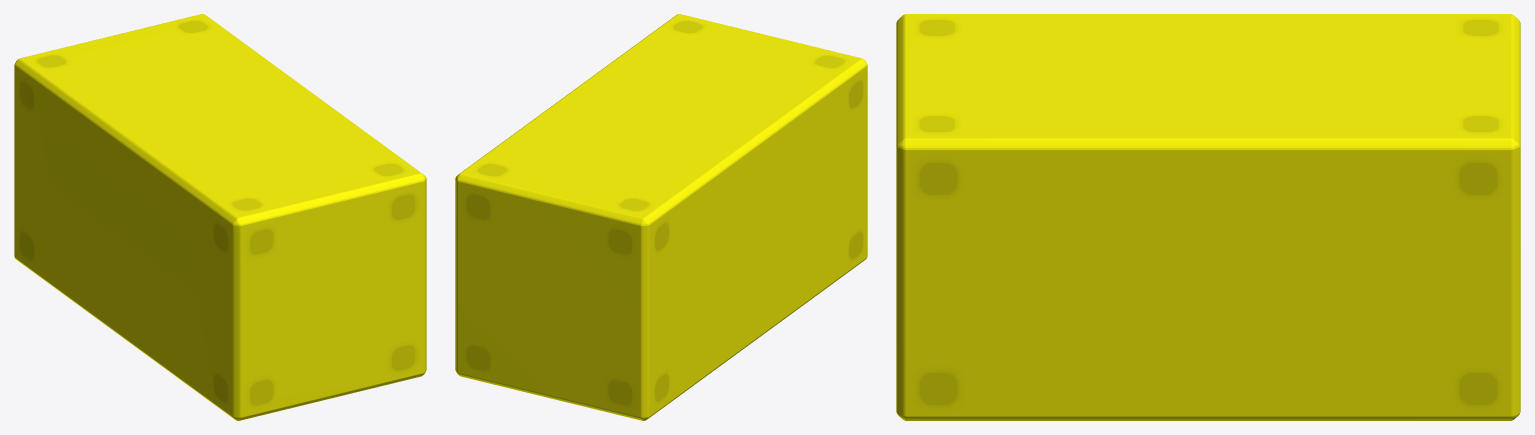
Rendered from WorkBlockRect.fbx.
The picture shows the model from 3 angles, left to right: view 1: azimuth 30°, elevation 25°; view 2: azimuth 150°, elevation 25°; view 3: azimuth 270°, elevation 25°; orthographic projection. The views are drawn at different scales.
Visible parts, largest first — view 1: WorkBlockRect1; view 2: WorkBlockRect1; view 3: WorkBlockRect1.
Boxes of the visible parts, x1,y1,x2,y2 form: WorkBlockRect1: (14,14,426,420); WorkBlockRect1: (455,14,867,420); WorkBlockRect1: (896,14,1520,420).
Bounding box in the file's own units: 1 × 1 × 2.
